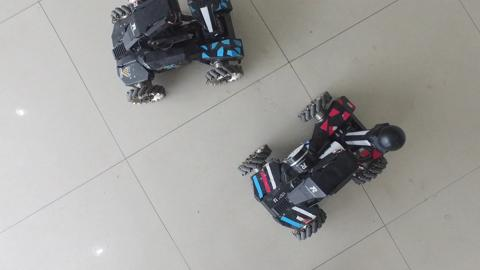chariot: (238, 84, 406, 242), (103, 1, 251, 111)
